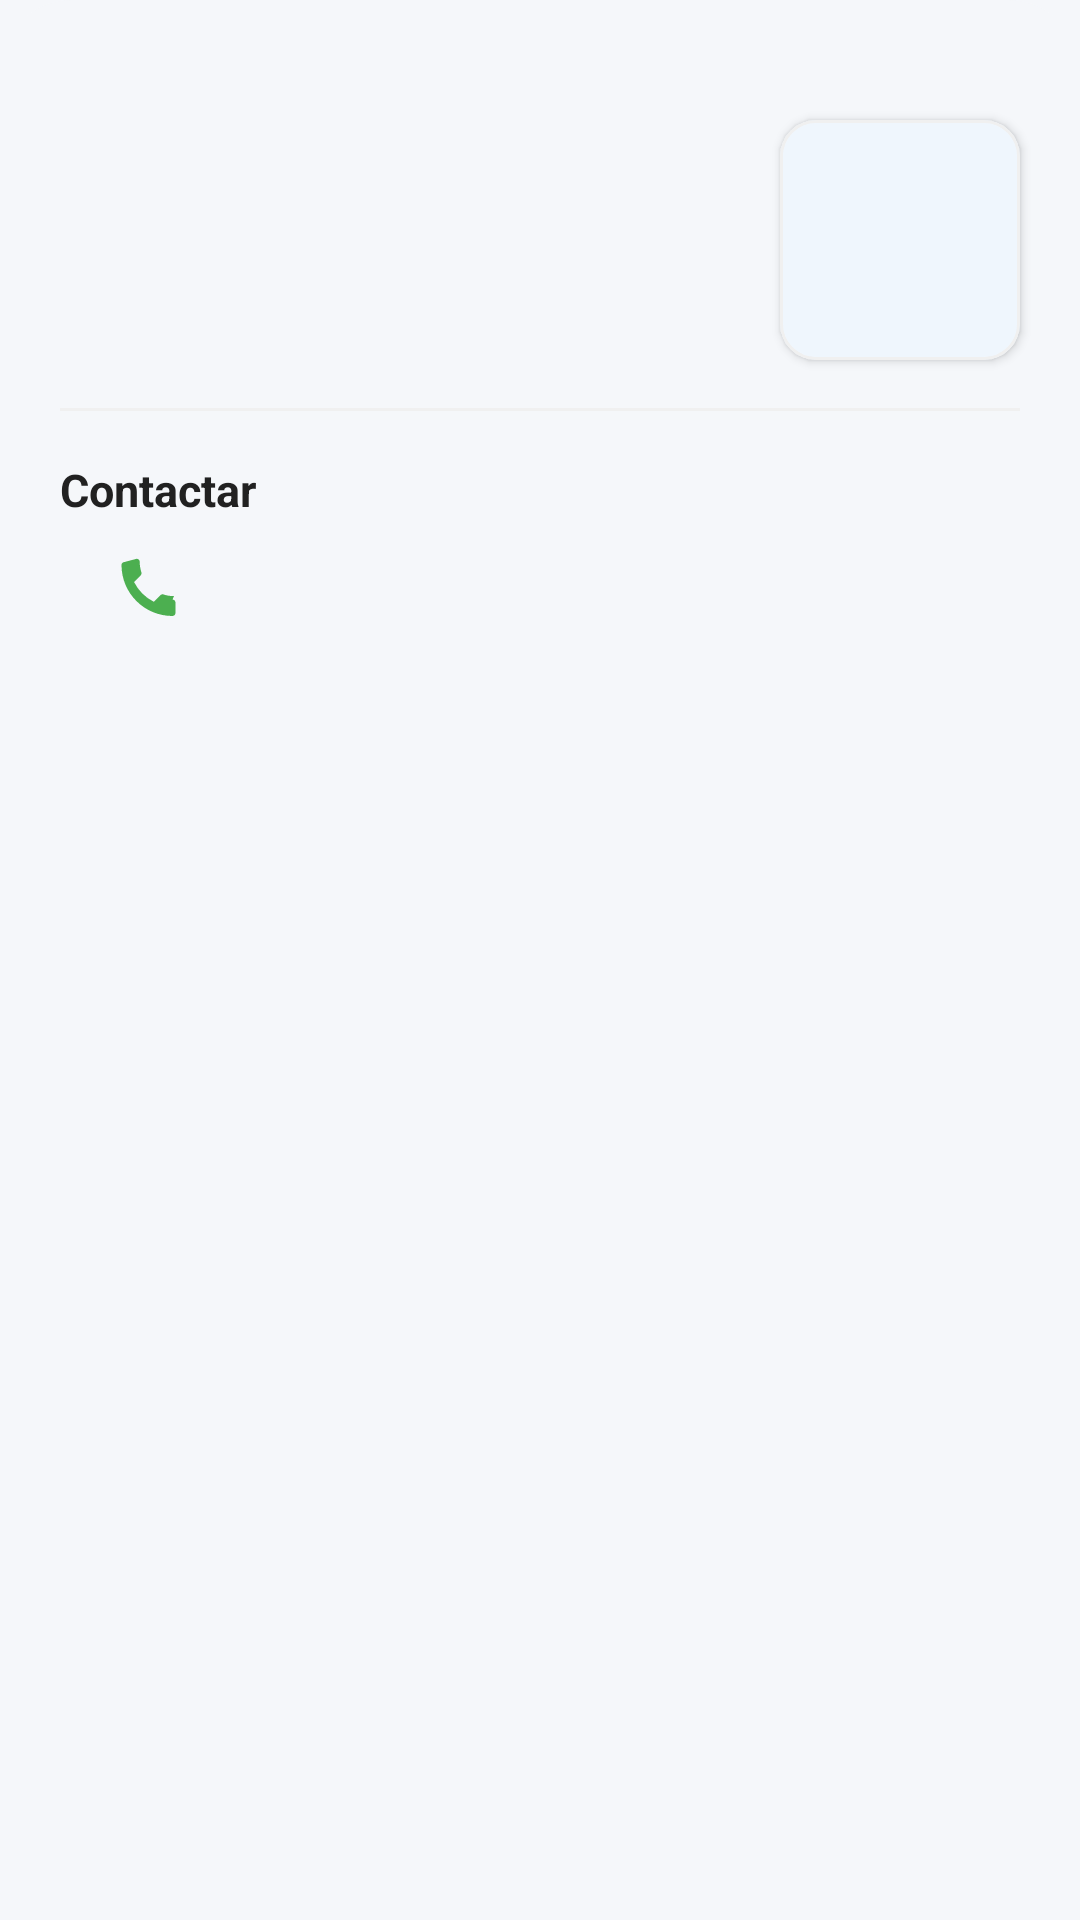

Named icons in this screenshot (1080 × 1920) and their bounding boxes, rect(x1, y1, x2, y2):
Llamar al chofer: rect(121, 558, 176, 616)
